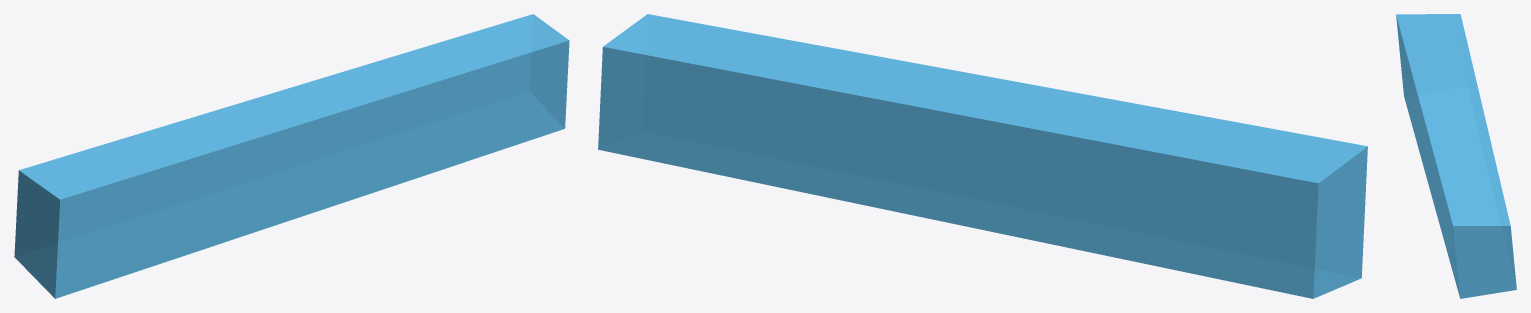
Rendered from Event_420604493_HErechit_36.fbx.
The picture shows the model from 3 angles, left to right: view 1: azimuth 30°, elevation 25°; view 2: azimuth 150°, elevation 25°; view 3: azimuth 270°, elevation 25°; orthographic projection. The views are drawn at different scales.
Visible parts, largest first — view 1: Model; view 2: Model; view 3: Model.
Boxes of the visible parts, <box> form: Model: <box>14,14,569,298</box>; Model: <box>598,14,1367,298</box>; Model: <box>1396,14,1516,298</box>.
Size of the model in its own units: 1.31 by 0.2365 by 0.3164.
